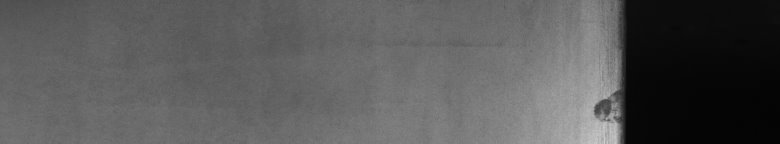hb: (587, 89, 612, 135)
